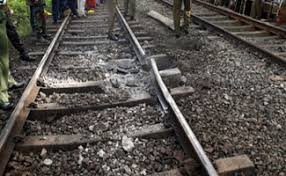crack: (125, 41, 178, 90)
track: (11, 57, 75, 122)
